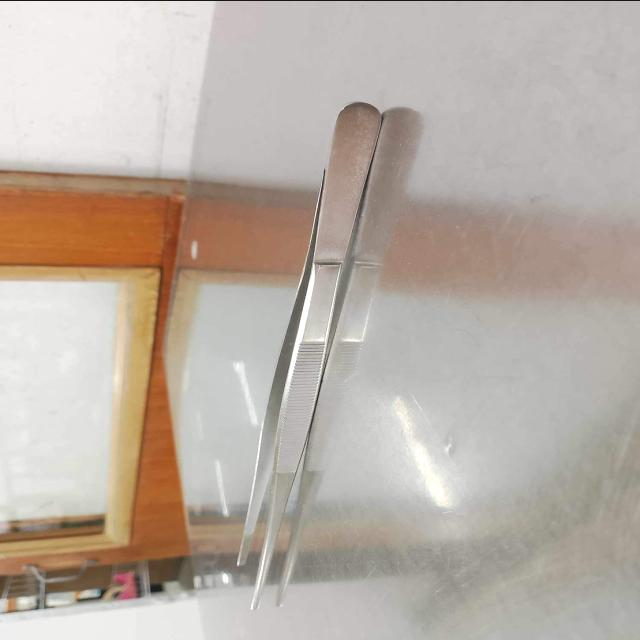Pathological: (231, 98, 637, 618)
Sharps: (233, 101, 385, 609)
